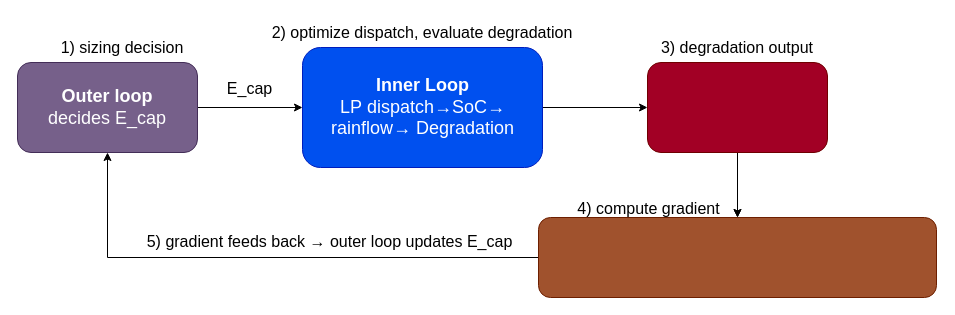
The diagram is 955 pixels wide and 315 high, and some of its shapes have lost their labels. Each missing label, with the centre of its shape:
Total Degradation fd accumulated: the point at 737,107
∂Deg / ∂DoD computed from degradation, how sensitive aging to depth is: the point at 737,257
